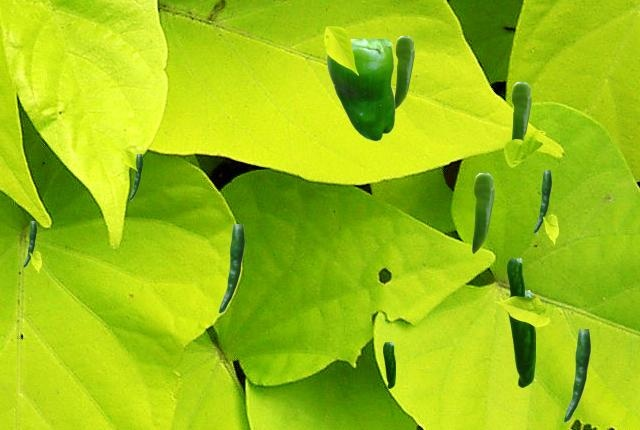green_chili: (326, 39, 394, 140), (508, 290, 534, 386), (563, 329, 589, 421), (218, 224, 243, 312), (472, 173, 493, 252), (394, 36, 413, 107), (511, 82, 530, 139), (533, 170, 550, 232), (507, 258, 523, 320), (23, 221, 35, 266), (129, 154, 141, 199), (383, 342, 394, 387)
